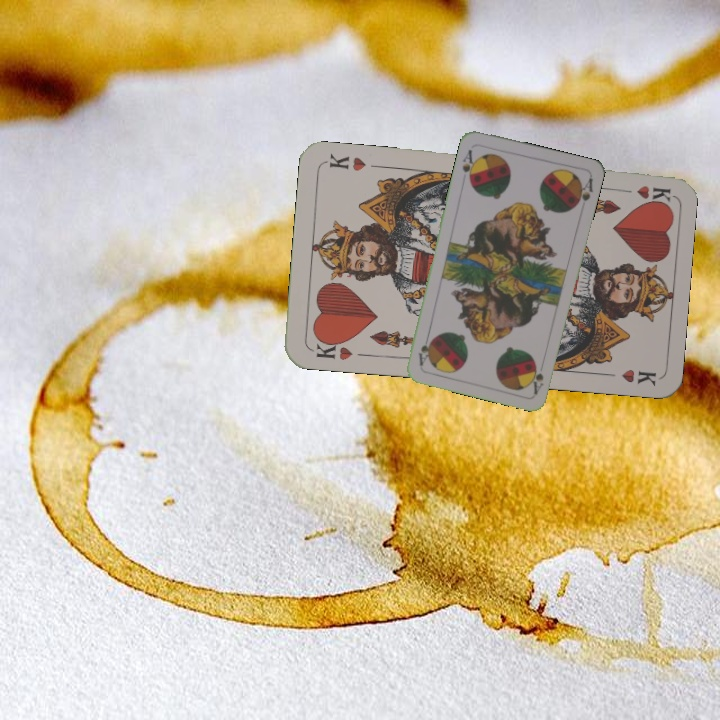HK: (612, 181, 672, 204), (308, 334, 355, 363)
SA: (458, 145, 479, 185), (527, 356, 547, 396)
